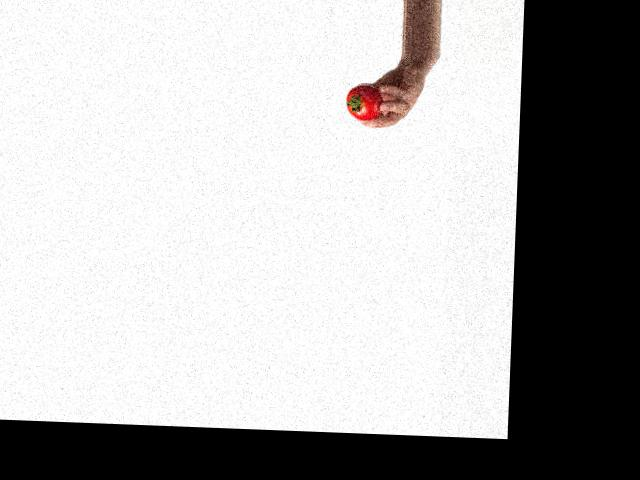tomato: (345, 83, 382, 120)
